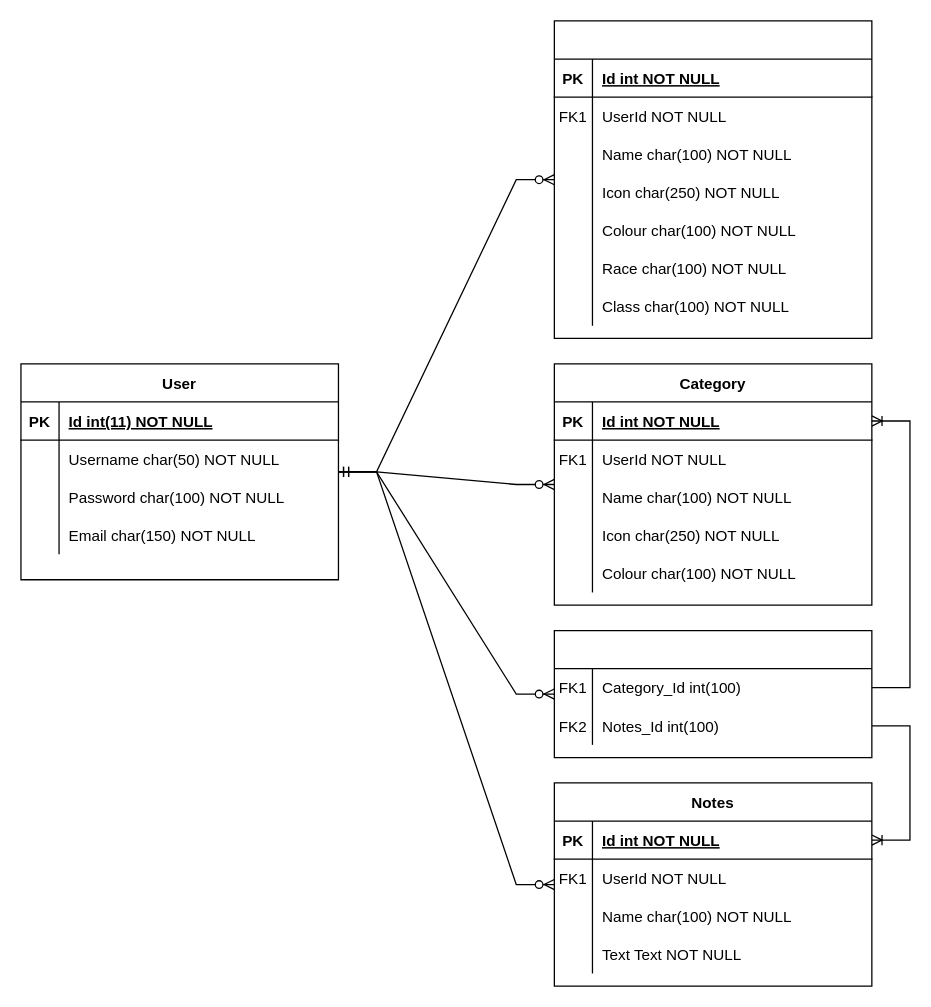
Image size: 931x1007. Some labels were removed from this diagram. Here are the shapes that lost their labels. From the top down, the box of each, then its label:
(553, 20, 872, 338): character_dnd
(553, 629, 872, 758): category_Notes
